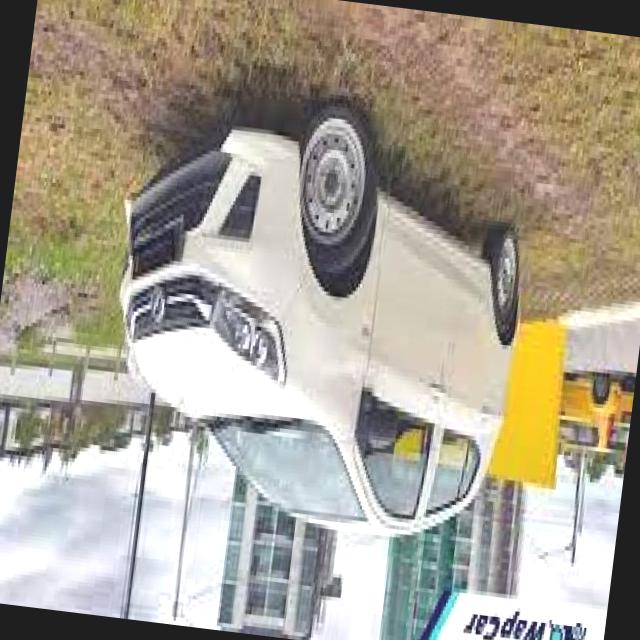PeroduaAxia: (87, 74, 546, 557)
